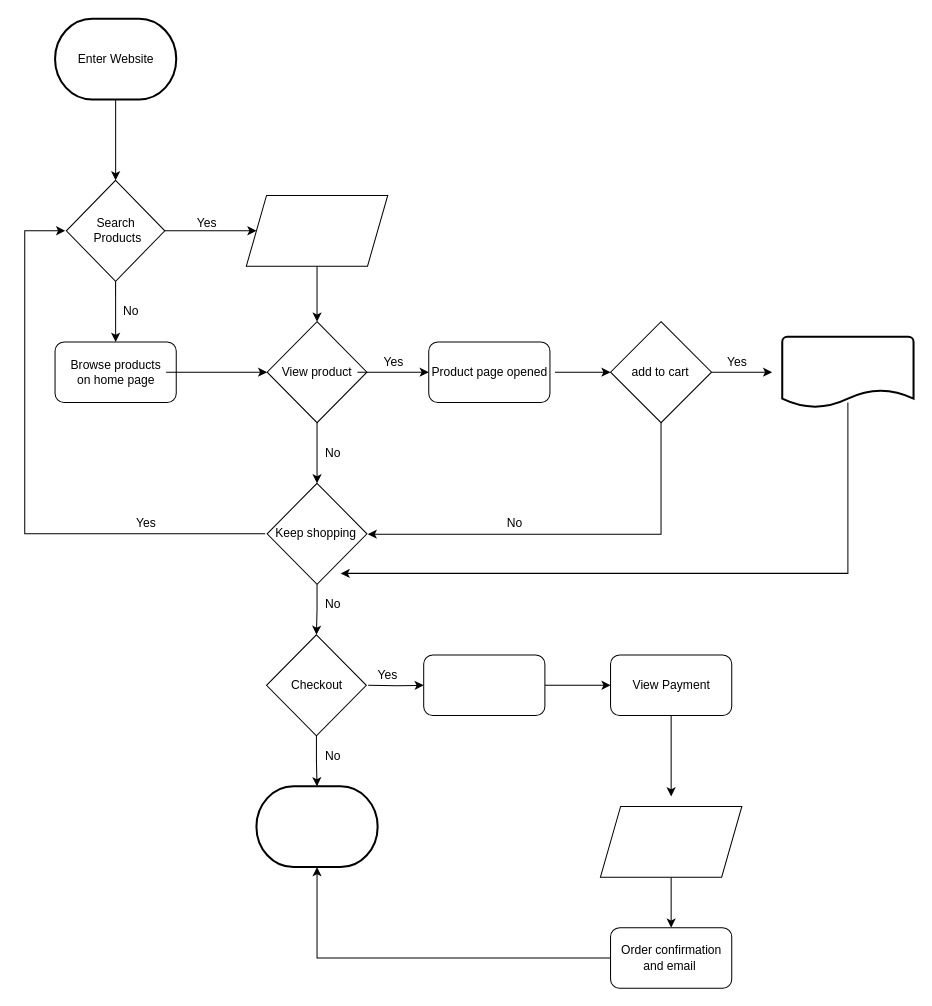
Image size: 932x1006. Some labels were removed from this diagram. Here are the shapes that lost their labels. From the top down, the centre of each, then its label:
(316,230): Search input
(847,371): Add to cart confirmation
(484,685): View Cart
(316,826): Leave site
(670,841): Input payment information
